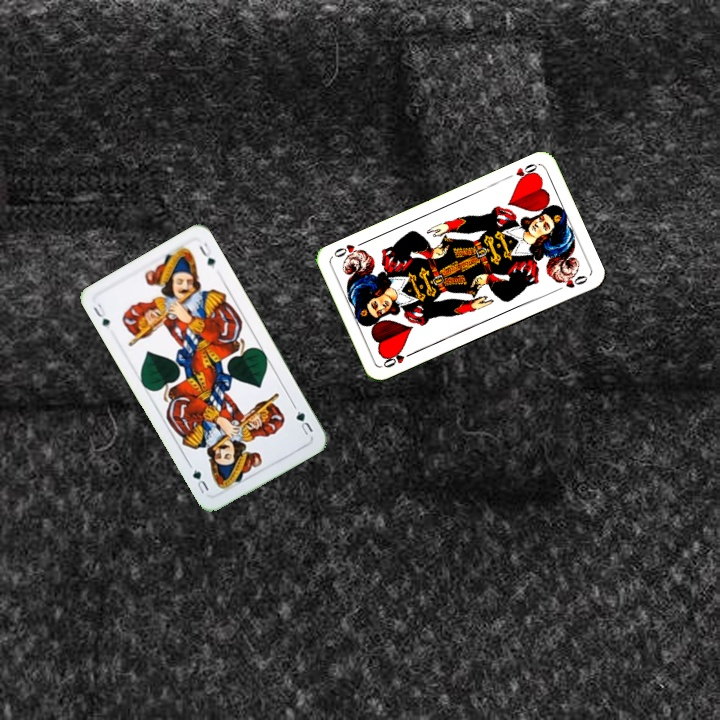GU: (89, 299, 113, 332), (292, 407, 316, 438)
HO: (502, 159, 540, 185), (379, 348, 417, 370)
